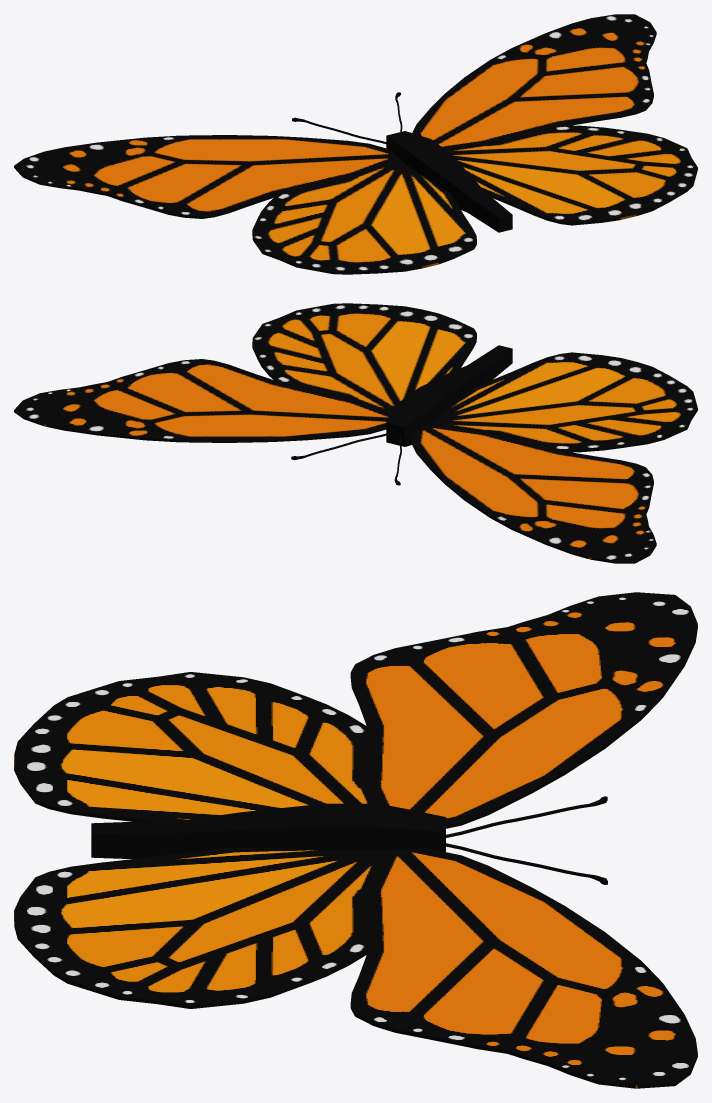
File: Monarch.glb
3 views of the same model, one above another, from view 1: azimuth 30°, elevation 25°; view 2: azimuth 150°, elevation 25°; view 3: azimuth 270°, elevation 25° (orthographic). The views are drawn at different scales.
Visible parts, largest first — view 1: Wing.001, Wing, body; view 2: Wing.001, Wing, body; view 3: Wing, Wing.001, body.
Boxes of the visible parts, x1=… form: Wing.001: x1=14, y1=135, x2=476, y2=274; Wing: x1=412, y1=14, x2=697, y2=225; body: x1=386, y1=131, x2=512, y2=232; Wing.001: x1=412, y1=352, x2=697, y2=563; Wing: x1=14, y1=303, x2=476, y2=442; body: x1=386, y1=345, x2=512, y2=446; Wing: x1=14, y1=847, x2=697, y2=1088; Wing.001: x1=14, y1=592, x2=697, y2=828; body: x1=91, y1=803, x2=445, y2=859.
Size of the model in its own units: 3.25 by 0.1541 by 1.9.
Materials: 2 (1 with a texture image).
